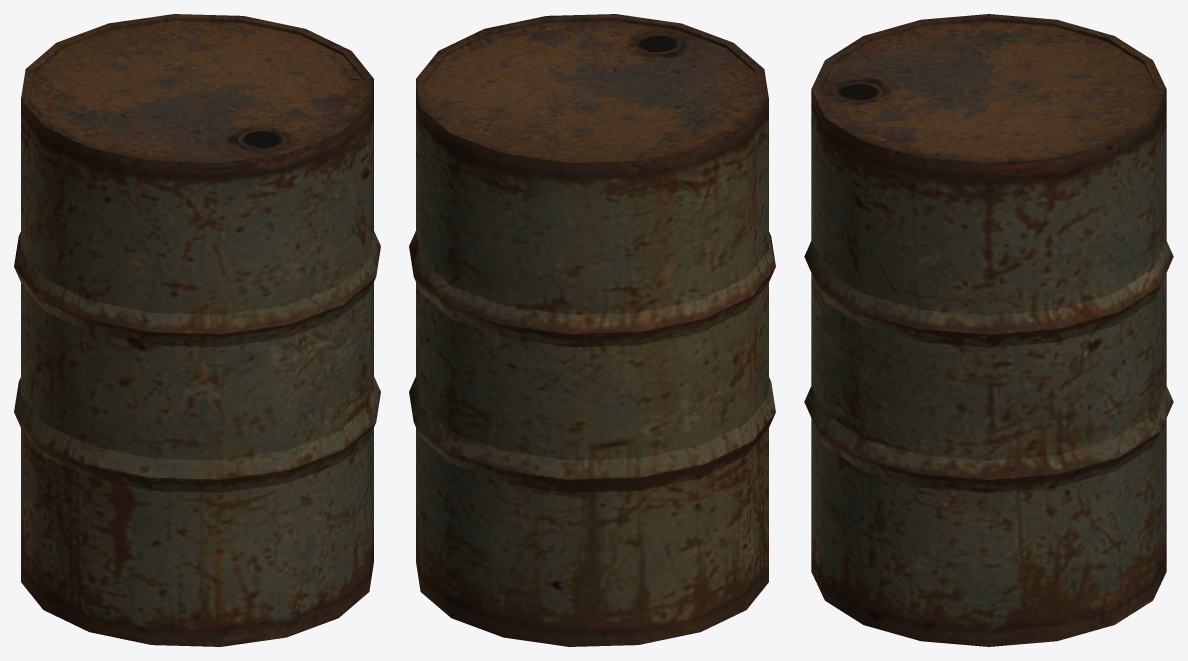
File: metal_barrel_mp_2.obj
The picture shows the model from 3 angles, left to right: view 1: azimuth 30°, elevation 25°; view 2: azimuth 150°, elevation 25°; view 3: azimuth 270°, elevation 25°; orthographic projection.
Visible parts, largest first — view 1: metal_barrel_mp_2; view 2: metal_barrel_mp_2; view 3: metal_barrel_mp_2.
Boxes of the visible parts, x1,y1,x2,y2 form: metal_barrel_mp_2: (14, 14, 380, 646); metal_barrel_mp_2: (409, 14, 775, 646); metal_barrel_mp_2: (804, 14, 1173, 646).
Bounding box in the file's own units: 0.7488 × 1.08 × 0.7488.
